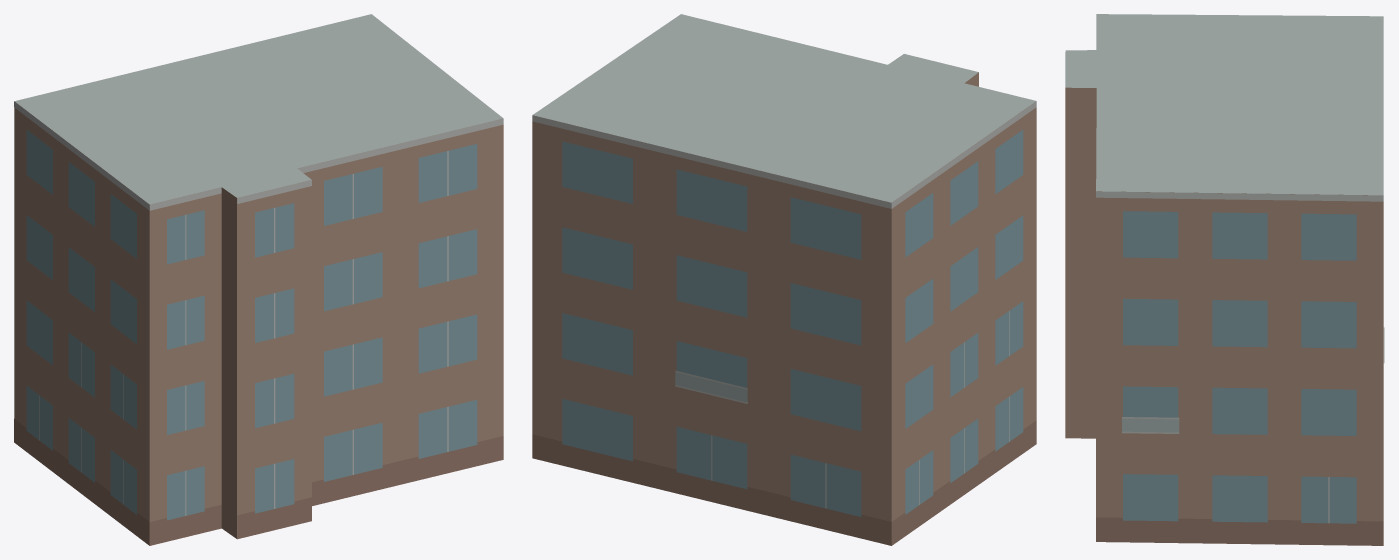
File: survey-upis-32626481.glb
3 renders of one model, left to right at view 1: azimuth 30°, elevation 25°; view 2: azimuth 150°, elevation 25°; view 3: azimuth 270°, elevation 25°, orthographic. The views are drawn at different scales.
Parts seen in each view (by area): view 1: survey-upis-32626481.tmp; view 2: survey-upis-32626481.tmp; view 3: survey-upis-32626481.tmp.
Boxes of the visible parts, bbox=[...] form: survey-upis-32626481.tmp: bbox=[14, 14, 503, 545]; survey-upis-32626481.tmp: bbox=[532, 14, 1036, 545]; survey-upis-32626481.tmp: bbox=[1065, 14, 1384, 545].
Bounding box in the file's own units: 14.99 × 13.5 × 11.16.
